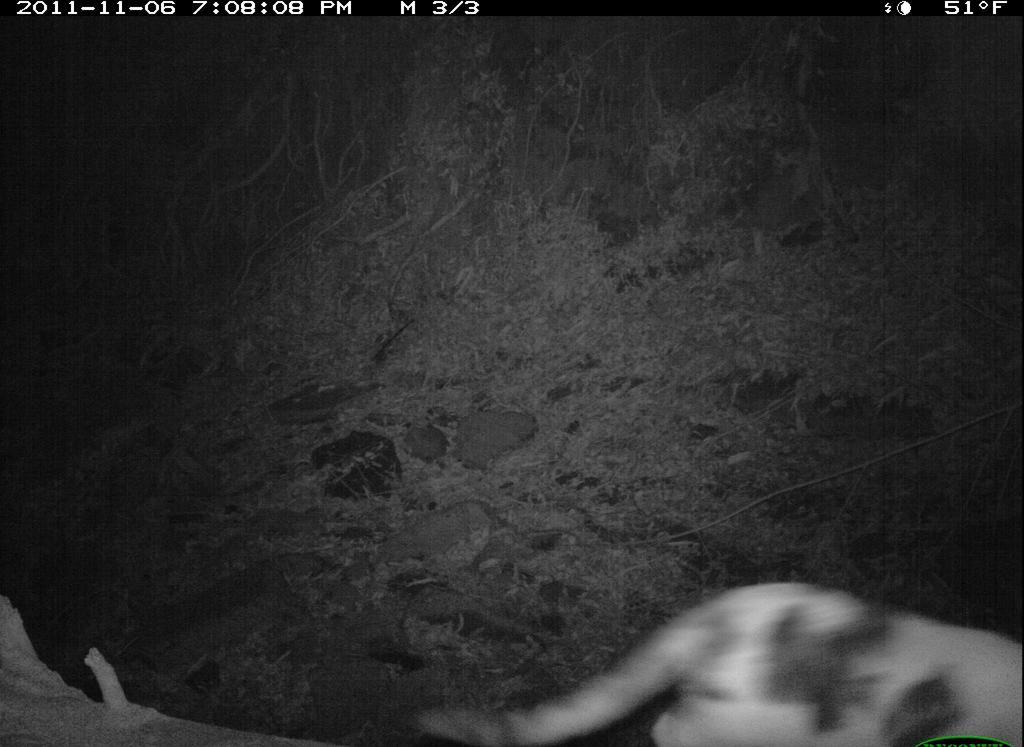cat: (409, 577, 1023, 747)
